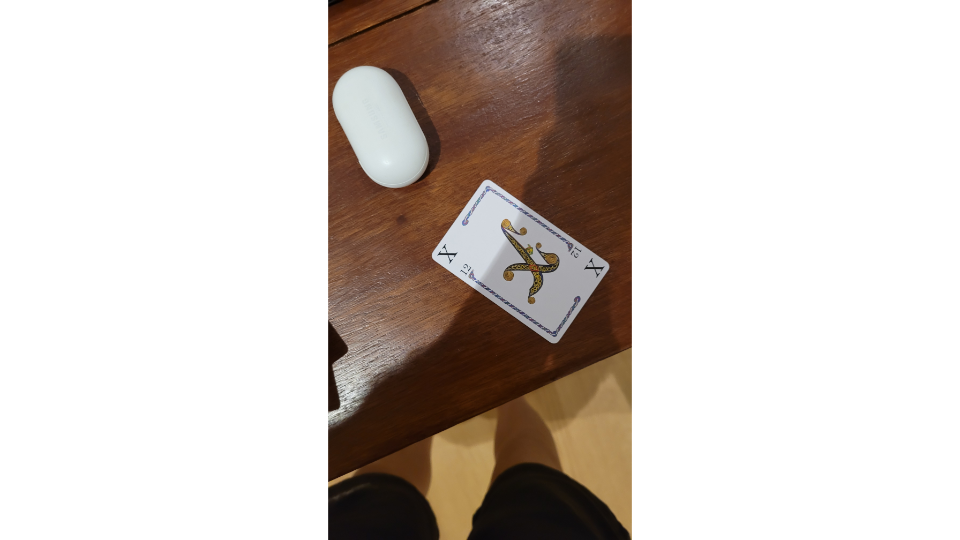X: (428, 177, 612, 347)
